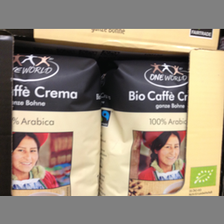coffee: (13, 50, 99, 195), (99, 52, 186, 195)
